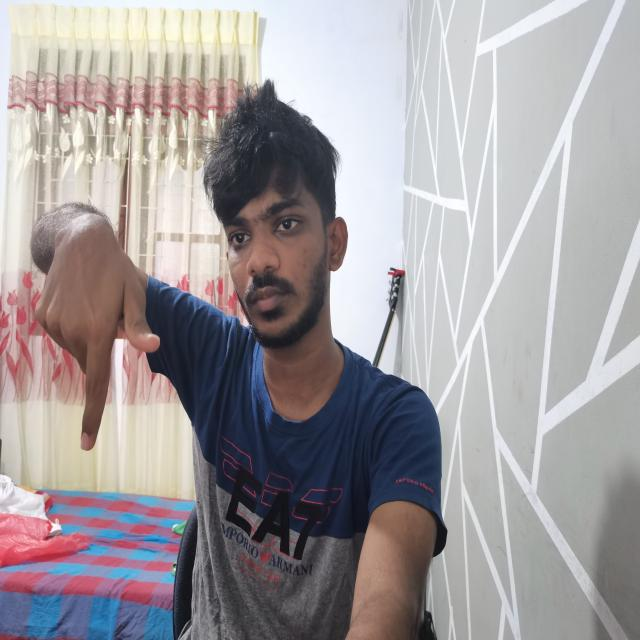Yes: (35, 200, 170, 446)
